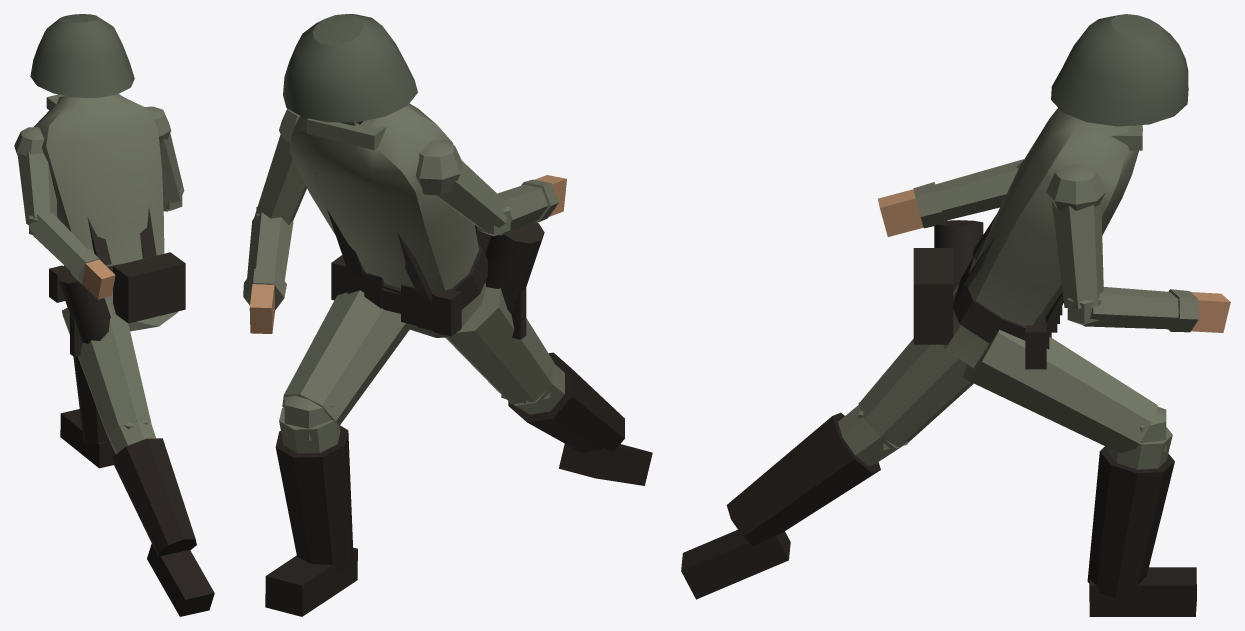
Rendered from soldier_de_crouch_run.glb.
3 views of the same model, side by side, from view 1: azimuth 30°, elevation 25°; view 2: azimuth 150°, elevation 25°; view 3: azimuth 270°, elevation 25° (orthographic). The views are drawn at different scales.
Visible parts, largest first — view 1: soldier_de_crouch_run; view 2: soldier_de_crouch_run; view 3: soldier_de_crouch_run.
Boxes of the visible parts, left/top/right/bottom form: soldier_de_crouch_run: left=14, top=14, right=214, bottom=616; soldier_de_crouch_run: left=243, top=14, right=652, bottom=616; soldier_de_crouch_run: left=681, top=14, right=1230, bottom=616.
Bounding box in the file's own units: 0.5971 × 1.5 × 1.24.
